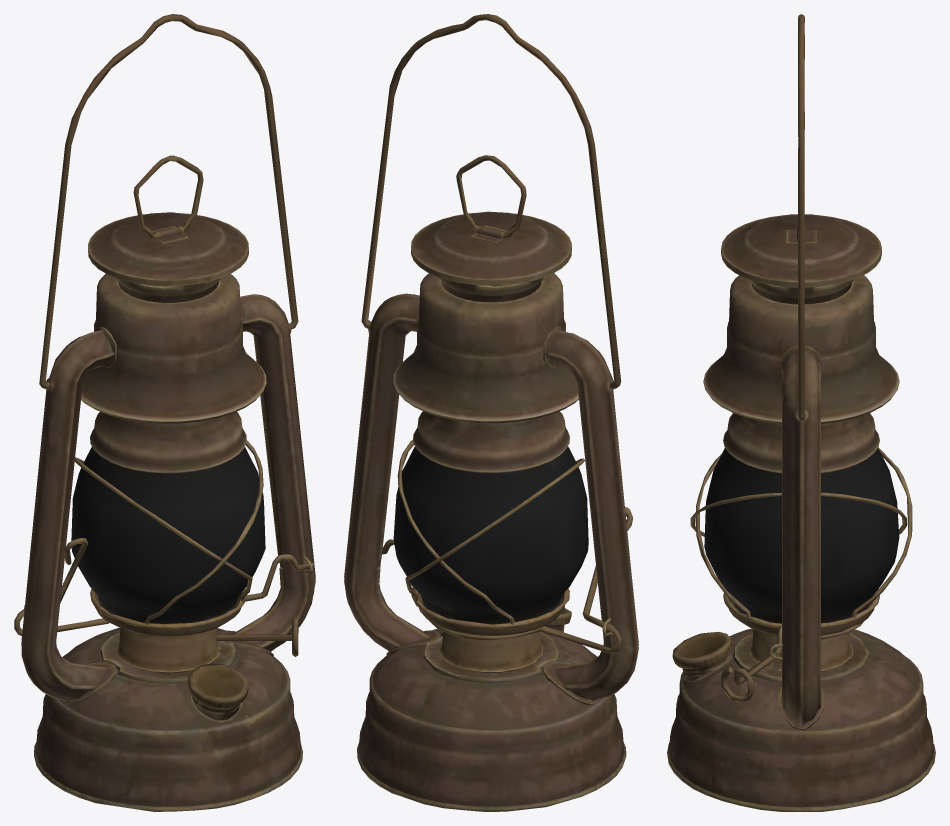
The model's file is Lantern_01.glb.
The picture shows the model from 3 angles, left to right: view 1: azimuth 30°, elevation 25°; view 2: azimuth 150°, elevation 25°; view 3: azimuth 270°, elevation 25°; orthographic projection.
Parts seen in each view (by area): view 1: Lantern_01, Lantern_01_glass; view 2: Lantern_01, Lantern_01_glass; view 3: Lantern_01, Lantern_01_glass.
Boxes of the visible parts, x1=… form: Lantern_01: x1=14, y1=14, x2=315, y2=811; Lantern_01_glass: x1=71, y1=447, x2=265, y2=623; Lantern_01: x1=344, y1=14, x2=638, y2=811; Lantern_01_glass: x1=393, y1=446, x2=588, y2=624; Lantern_01: x1=667, y1=14, x2=935, y2=811; Lantern_01_glass: x1=704, y1=448, x2=899, y2=623.
Size of the model in its own units: 0.1221 by 0.294 by 0.097.
Materials: 2 (2 with a texture image).
